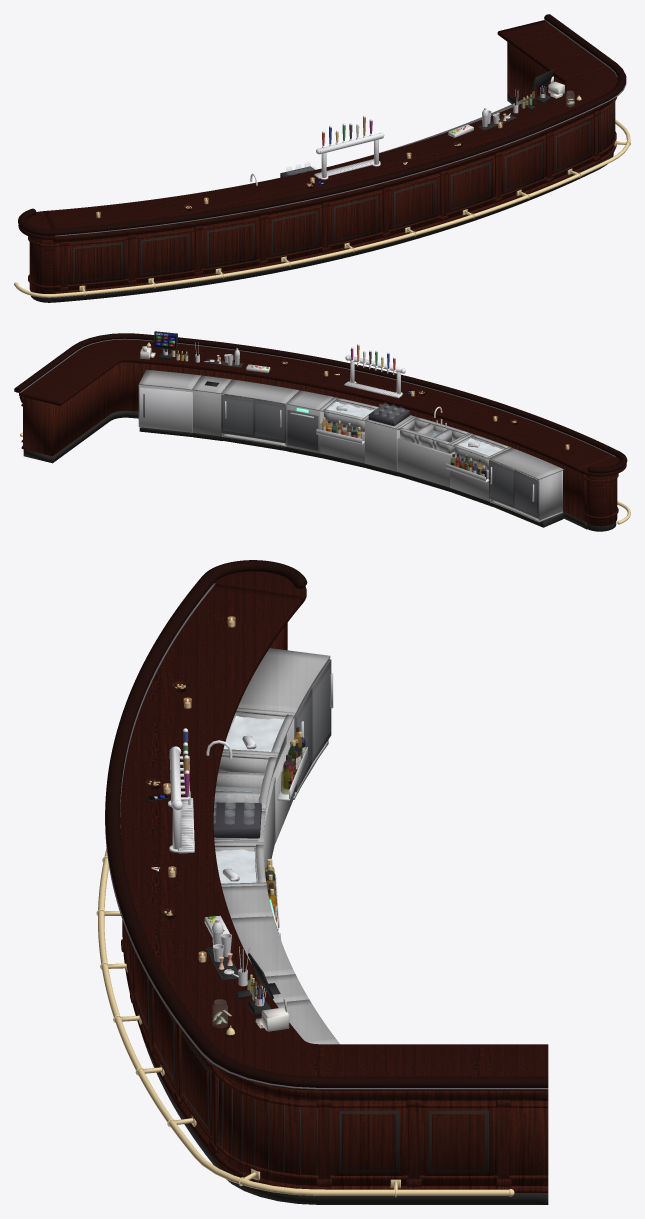
File: bar_counter_l.glb
3 renders of one model, top to bottom at view 1: azimuth 30°, elevation 25°; view 2: azimuth 150°, elevation 25°; view 3: azimuth 270°, elevation 25°, orthographic. The views are drawn at different scales.
Parts seen in each view (by area): view 1: Counter mahogany, Bar top mahogany, Plinth, Arm rest leather, Brass, Dark steel, Stainless, Chrome, Black plastic; view 2: Brushed stainless, Bar top mahogany, Counter mahogany, Dark steel, Arm rest leather, Stainless, Plinth, Ice bed, Chrome, Rack, Bottle glass, Bottle labels (+1 smaller); view 3: Bar top mahogany, Counter mahogany, Brushed stainless, Arm rest leather, Plinth, Brass, Dark steel, Stainless, Ice bed, Rack, Chrome, Bottle glass (+1 smaller).
Boxes of the visible parts, x1,y1,x2,y2 form: Counter mahogany: (28, 42, 616, 293); Bar top mahogany: (18, 20, 617, 239); Plinth: (31, 93, 615, 302); Arm rest leather: (18, 14, 626, 235); Brass: (14, 95, 630, 297); Dark steel: (55, 19, 626, 236); Stainless: (314, 89, 545, 178); Chrome: (250, 115, 384, 185); Black plastic: (316, 69, 554, 185); Brushed stainless: (138, 369, 563, 522); Bar top mahogany: (19, 339, 626, 476); Counter mahogany: (19, 362, 618, 526); Dark steel: (14, 338, 615, 518); Arm rest leather: (14, 333, 627, 473); Stainless: (139, 342, 534, 501); Plinth: (23, 381, 616, 531); Ice bed: (327, 401, 503, 455); Chrome: (345, 344, 446, 426); Rack: (368, 404, 410, 426); Bottle glass: (172, 344, 486, 479); Bottle labels: (171, 350, 484, 476); Bar top mahogany: (120, 571, 548, 1090); Counter mahogany: (121, 623, 548, 1192); Brushed stainless: (214, 648, 339, 1044); Arm rest leather: (105, 560, 548, 1087); Plinth: (131, 764, 548, 1204); Brass: (96, 848, 514, 1197); Dark steel: (105, 583, 548, 1089); Stainless: (156, 673, 333, 1006); Ice bed: (215, 715, 284, 883); Rack: (213, 802, 261, 838); Chrome: (168, 728, 232, 852); Bottle glass: (248, 732, 305, 1000).
Size of the model in its own units: 9.81 by 1.82 by 3.54.
Materials: 53 (12 with a texture image).
